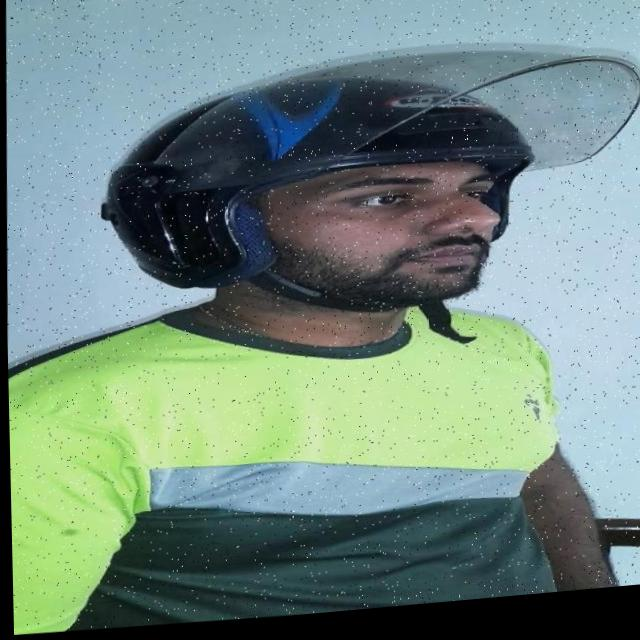helmet: (93, 39, 640, 383)
